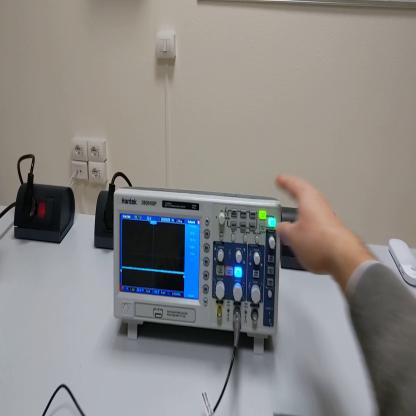hand: (274, 173, 341, 278)
oscilloscope: (113, 188, 283, 358)
socket: (15, 184, 77, 245), (96, 192, 112, 250)
